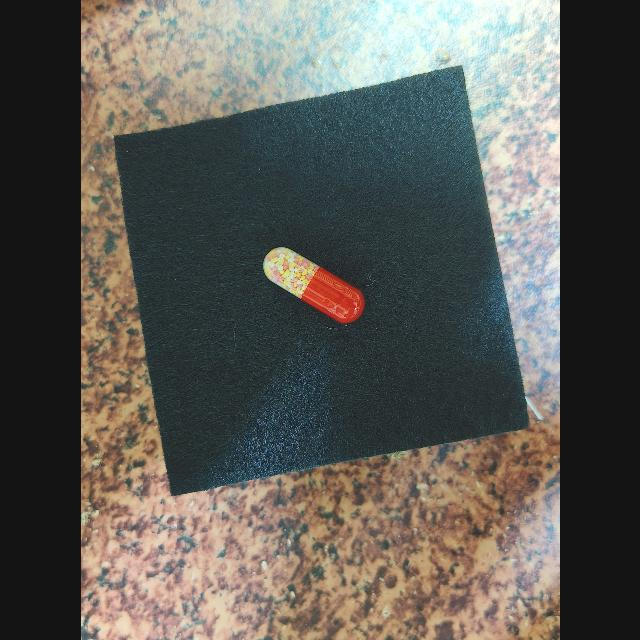Intact Capsule: (262, 247, 364, 323)
